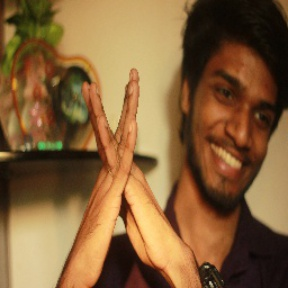W: (70, 65, 173, 275)
